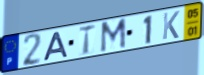1: (142, 13, 154, 45)
2: (21, 31, 43, 70)
A: (42, 30, 69, 62)
K: (162, 10, 181, 41)
M: (99, 16, 128, 55)
T: (78, 23, 97, 57)
